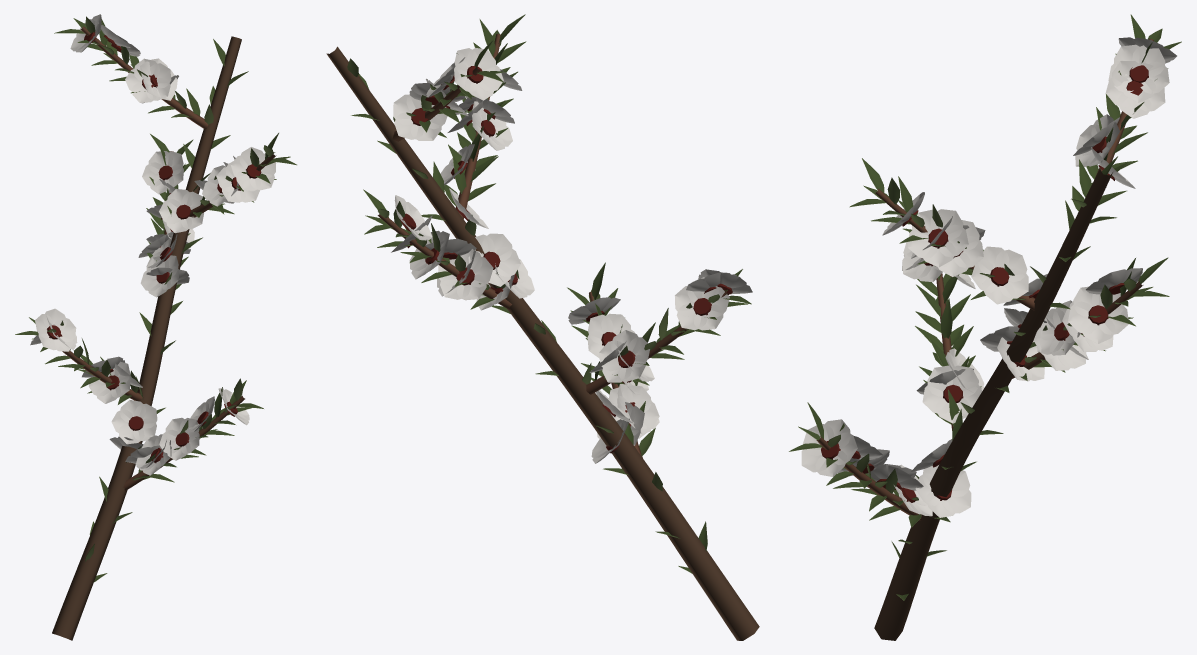
Rendered from manu-manuka.glb.
3 views of the same model, side by side, from view 1: azimuth 30°, elevation 25°; view 2: azimuth 150°, elevation 25°; view 3: azimuth 270°, elevation 25° (orthographic). The views are drawn at different scales.
Visible parts, largest first — view 1: flowers, stem, leaves; view 2: flowers, stem, leaves; view 3: flowers, stem, leaves.
Boxes of the visible parts, x1=… form: flowers: x1=30, y1=14, x2=276, y2=475; stem: x1=52, y1=26, x2=276, y2=640; leaves: x1=15, y1=16, x2=296, y2=582; flowers: x1=391, y1=47, x2=752, y2=463; stem: x1=326, y1=34, x2=759, y2=640; leaves: x1=347, y1=14, x2=751, y2=573; flowers: x1=801, y1=37, x2=1176, y2=517; stem: x1=816, y1=38, x2=1153, y2=640; leaves: x1=789, y1=14, x2=1181, y2=600.
Bounding box in the file's own units: 0.0422 × 0.0744 × 0.0381.
